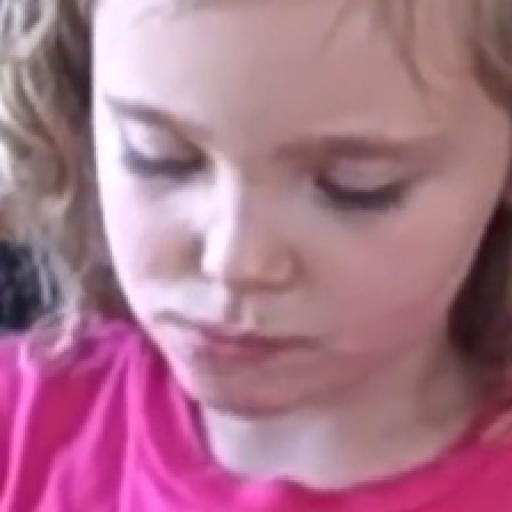Autism: (97, 13, 512, 449)
